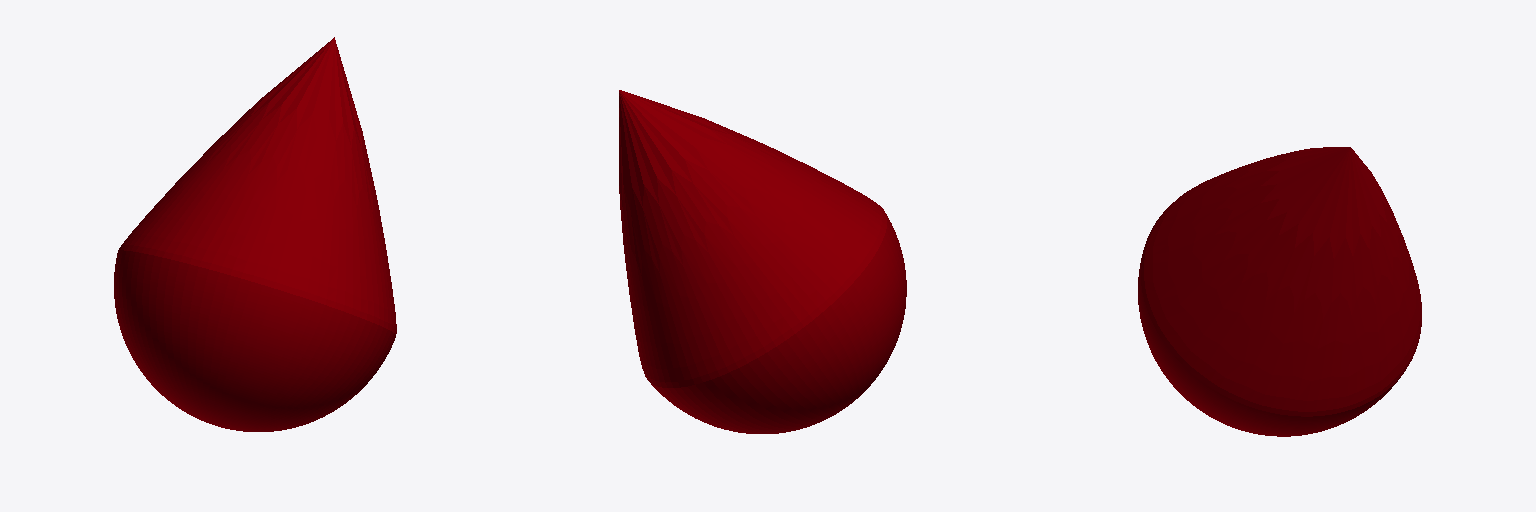
File: E_ear_right.obj
3 renders of one model, left to right at view 1: azimuth 30°, elevation 25°; view 2: azimuth 150°, elevation 25°; view 3: azimuth 270°, elevation 25°, orthographic.
Parts seen in each view (by area): view 1: polySurface1 ear_right1; view 2: polySurface1 ear_right1; view 3: polySurface1 ear_right1.
Boxes of the visible parts, <box> form: polySurface1 ear_right1: <box>114,37,396,431</box>; polySurface1 ear_right1: <box>619,90,906,433</box>; polySurface1 ear_right1: <box>1138,147,1421,436</box>.
Size of the model in its own units: 0.9415 by 1.23 by 0.9584.